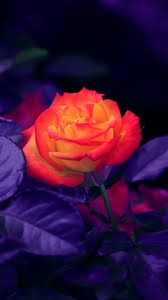flower: (39, 83, 149, 200)
